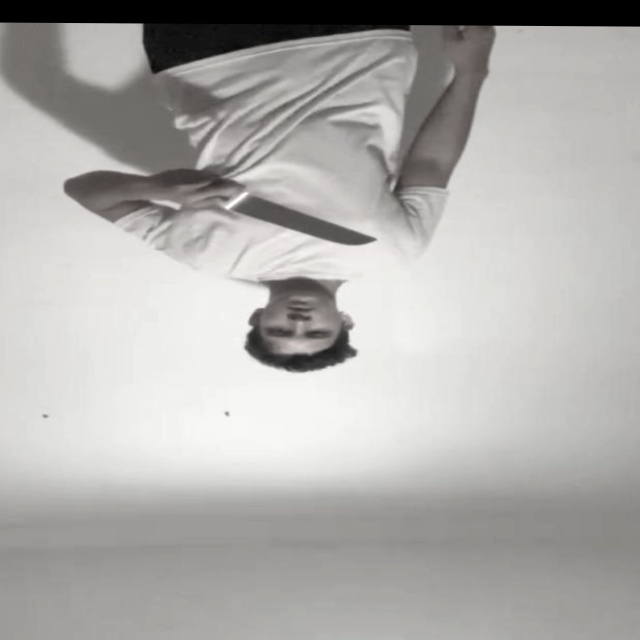Sharp-Object: (235, 200, 381, 247)
